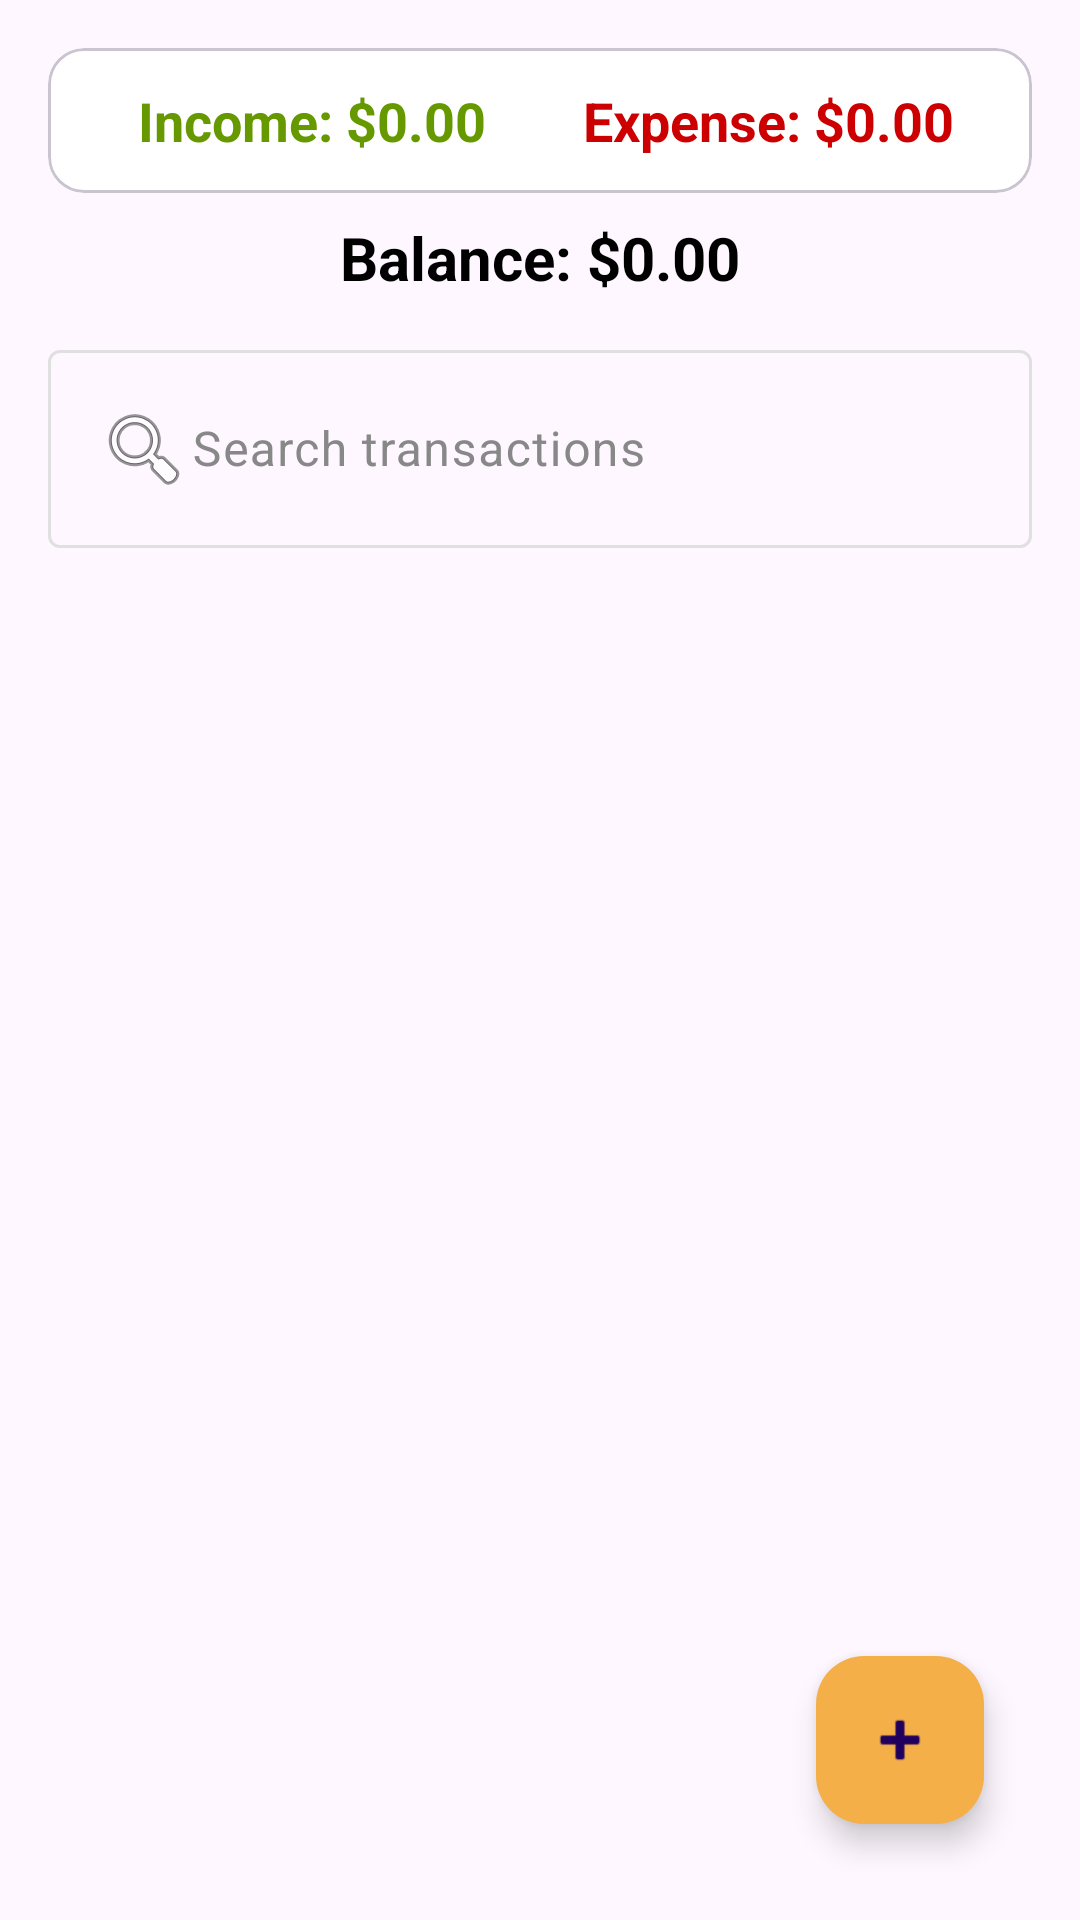

Icon bounding boxes for this 1080w x 1920h phone screenshot, format (x1, y1, x2, y2):
Add Transaction: (816, 1656, 984, 1824)
